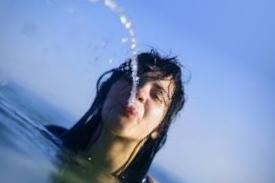spitting: (41, 1, 199, 181)
